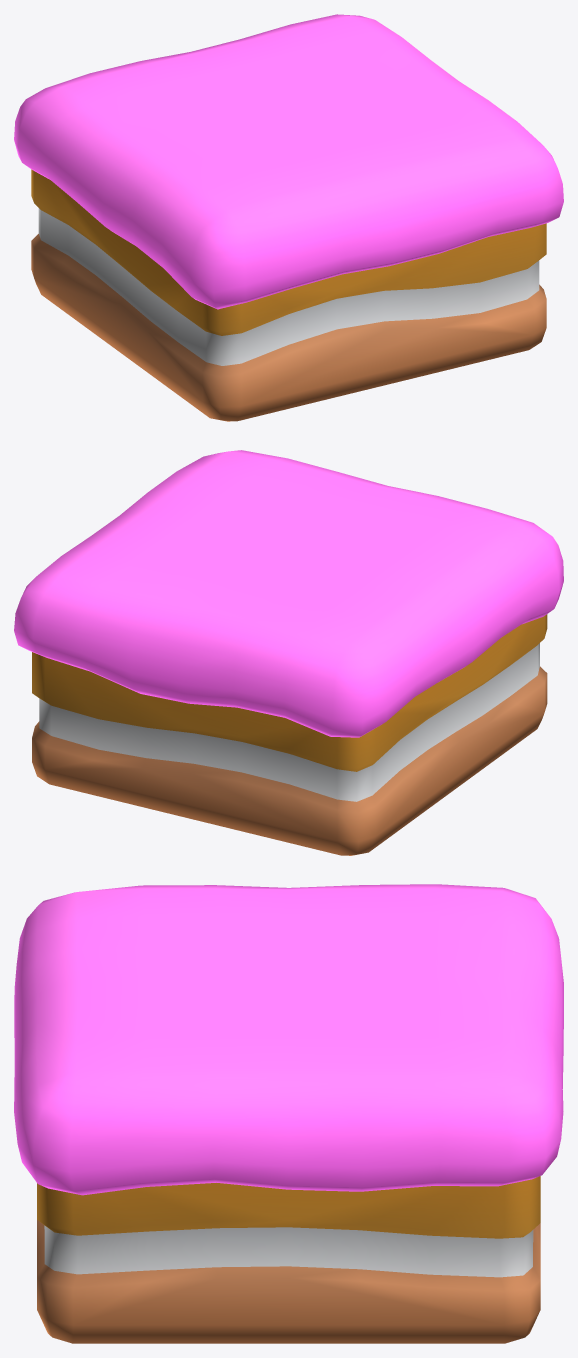
File: Cake_02.glb
The picture shows the model from 3 angles, top to bottom: view 1: azimuth 30°, elevation 25°; view 2: azimuth 150°, elevation 25°; view 3: azimuth 270°, elevation 25°; orthographic projection. The views are drawn at different scales.
Parts seen in each view (by area): view 1: Cake_02; view 2: Cake_02; view 3: Cake_02.
Part boxes in pixels (box(x1,y1,x2,y2)): Cake_02: box(14, 14, 563, 421); Cake_02: box(14, 450, 563, 855); Cake_02: box(14, 884, 563, 1343).
Bounding box in the file's own units: 5.94 × 3.27 × 5.93.
2 materials, 2 textured.
